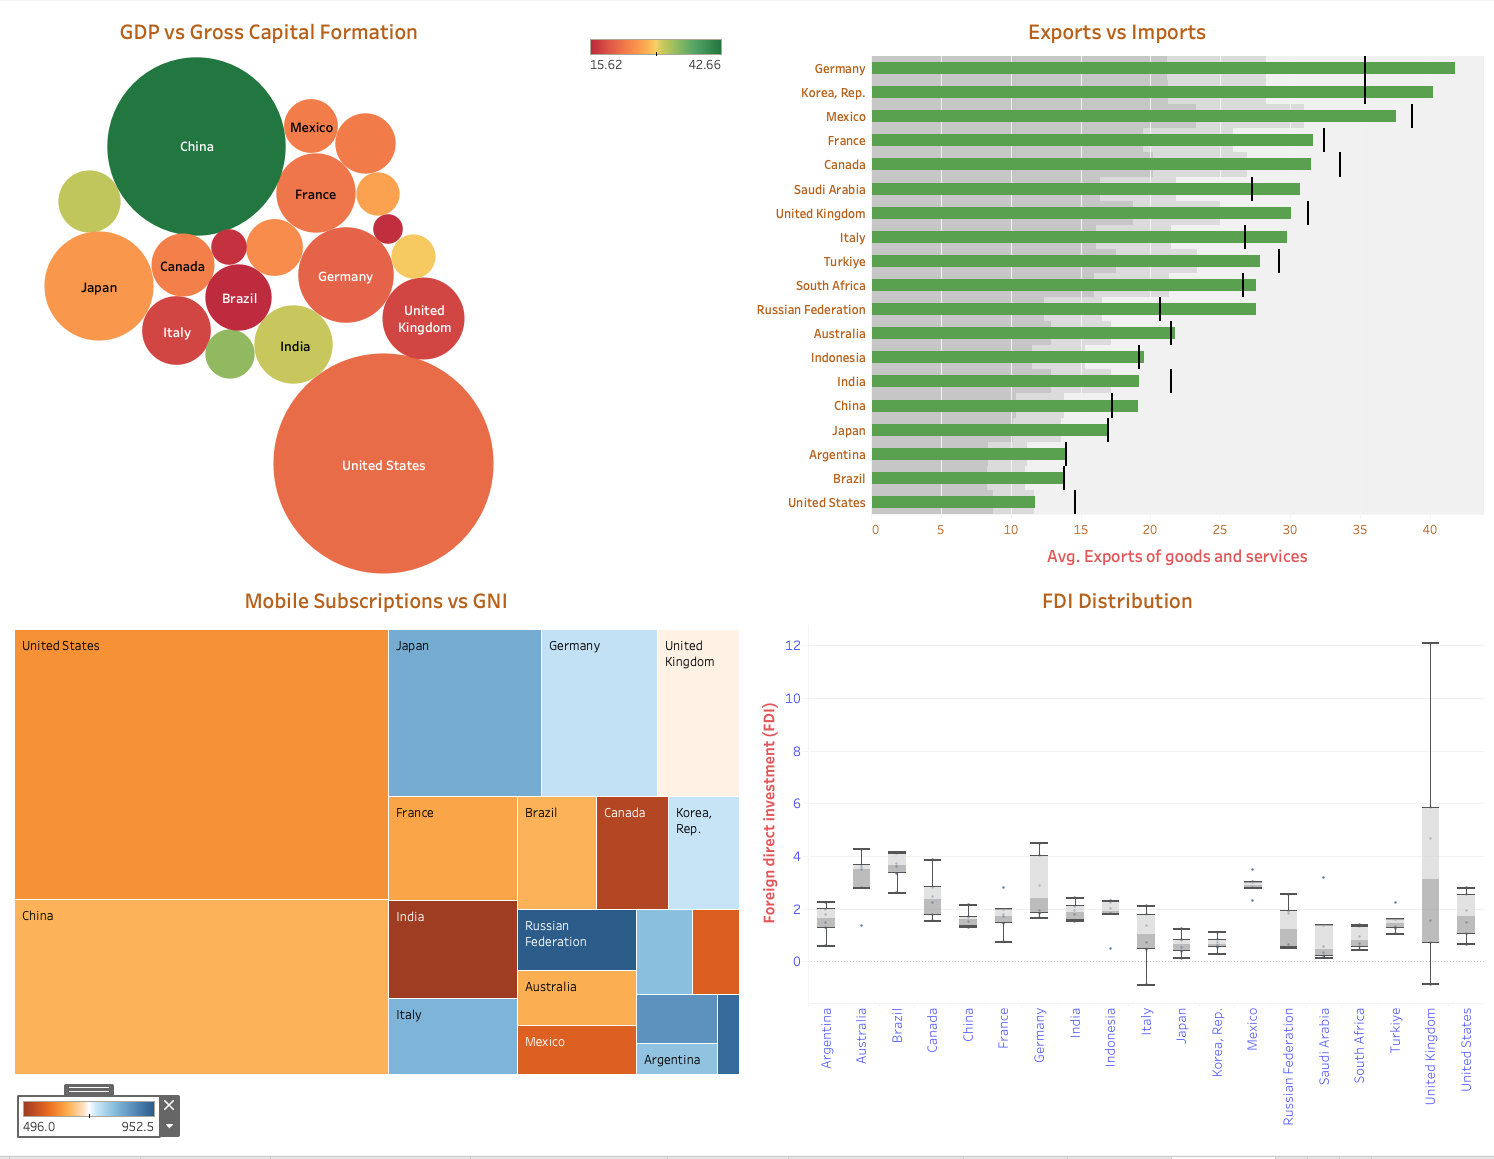

The page's visual inventory and layout, read from the dashboard file:
{"tool":"tableau","page":{"name":"Dashboard 2","canvas":[1000,1000],"units":"permille","ordinal":1},"visuals":[{"type":"worksheet","title":"GDP vs Gross Capital Formation","mark":"Circle","box":[5.3,6.9,494.7,493.1]},{"type":"worksheet","title":"Exports vs Imports","mark":"Automatic","rows":["country"],"cols":["Exports of goods and services"],"box":[500,6.9,494.7,493.1]},{"type":"legend","title":"GDP vs Gross Capital Formation","param":"[federated.1namhqv1uk0m0j10i0sdj09imuin].[avg:Gross capital formation:qk]","box":[392.8,29.5,93.5,33.8]},{"type":"worksheet","title":"Mobile Subscriptions vs GNI","mark":"Automatic","box":[5.3,500,494.7,493.1]},{"type":"worksheet","title":"FDI Distribution","mark":"Circle","rows":["Foreign direct investment (FDI)"],"cols":["country"],"box":[500,500,494.7,493.1]},{"type":"legend","title":"Mobile Subscriptions vs GNI","param":"[federated.1namhqv1uk0m0j10i0sdj09imuin].[sum:Mobile phone subscriptions:qk]","box":[14,949.7,93.5,33.8]}]}

Visuals, with their boxes on the dashboard's canvas, which has no fixed pixel size, in thousandths of its width and height (x1, y1, x2, y2). These are canvas units, not pixel positions in the 1494x1159 screenshot, which may show the page scaled, cropped or inside an application window:
"GDP vs Gross Capital Formation" worksheet (Circle marks): BBox(5, 7, 500, 500)
"Exports vs Imports" worksheet: BBox(500, 7, 995, 500)
"GDP vs Gross Capital Formation" legend: BBox(393, 30, 486, 63)
"Mobile Subscriptions vs GNI" worksheet: BBox(5, 500, 500, 993)
"FDI Distribution" worksheet (Circle marks): BBox(500, 500, 995, 993)
"Mobile Subscriptions vs GNI" legend: BBox(14, 950, 108, 984)
